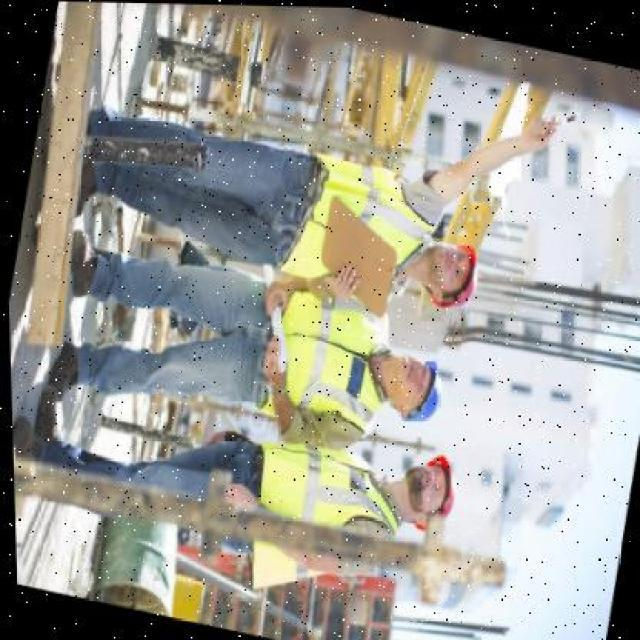vest: (231, 416, 403, 582), (274, 159, 433, 311), (246, 283, 391, 429)
